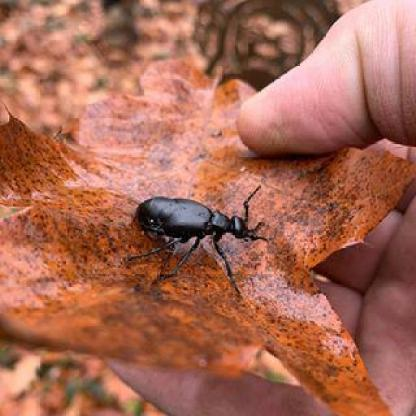beetle: (131, 190, 279, 282)
